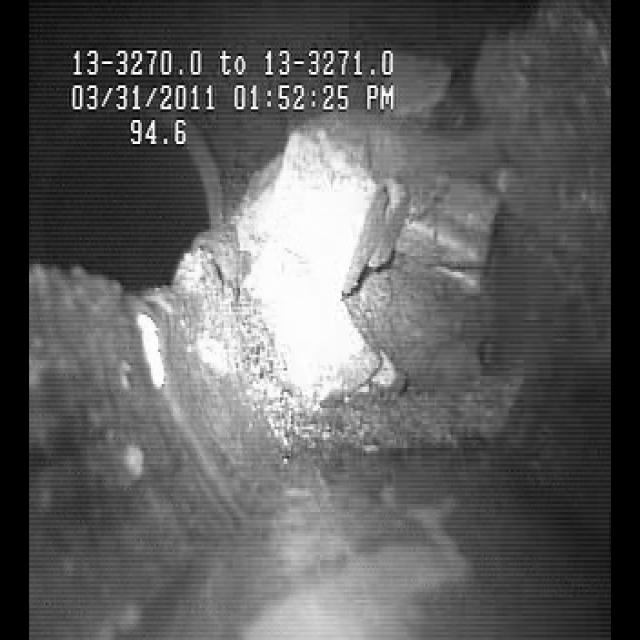Fracture: (331, 152, 488, 456)
